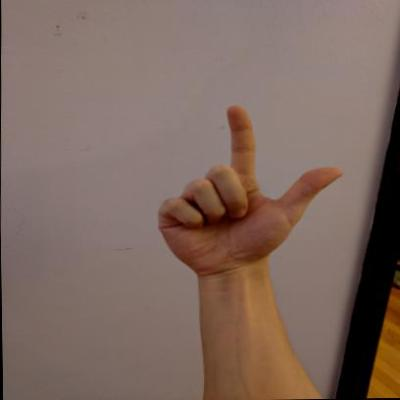hand: (150, 100, 349, 282)
